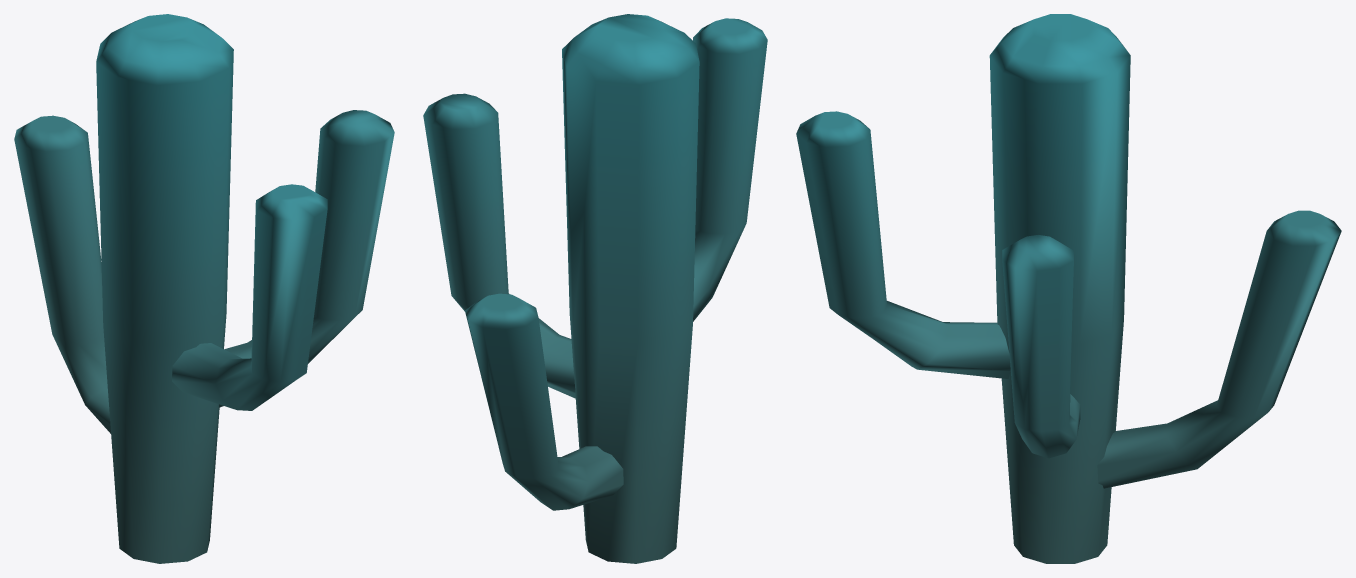
The model's file is Cactus_2.fbx.
3 renders of one model, left to right at view 1: azimuth 30°, elevation 25°; view 2: azimuth 150°, elevation 25°; view 3: azimuth 270°, elevation 25°, orthographic.
Visible parts, largest first — view 1: Cactus_2; view 2: Cactus_2; view 3: Cactus_2.
Boxes of the visible parts, x1,y1,x2,y2 form: Cactus_2: (14, 14, 394, 563); Cactus_2: (423, 14, 767, 563); Cactus_2: (796, 14, 1341, 563).
Bounding box in the file's own units: 42.43 × 77.1 × 73.61.
